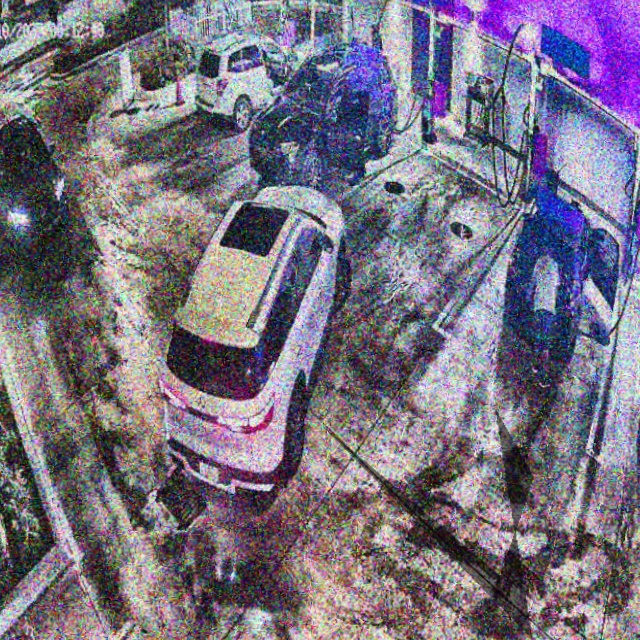Car: (152, 190, 359, 495), (246, 35, 399, 191)
